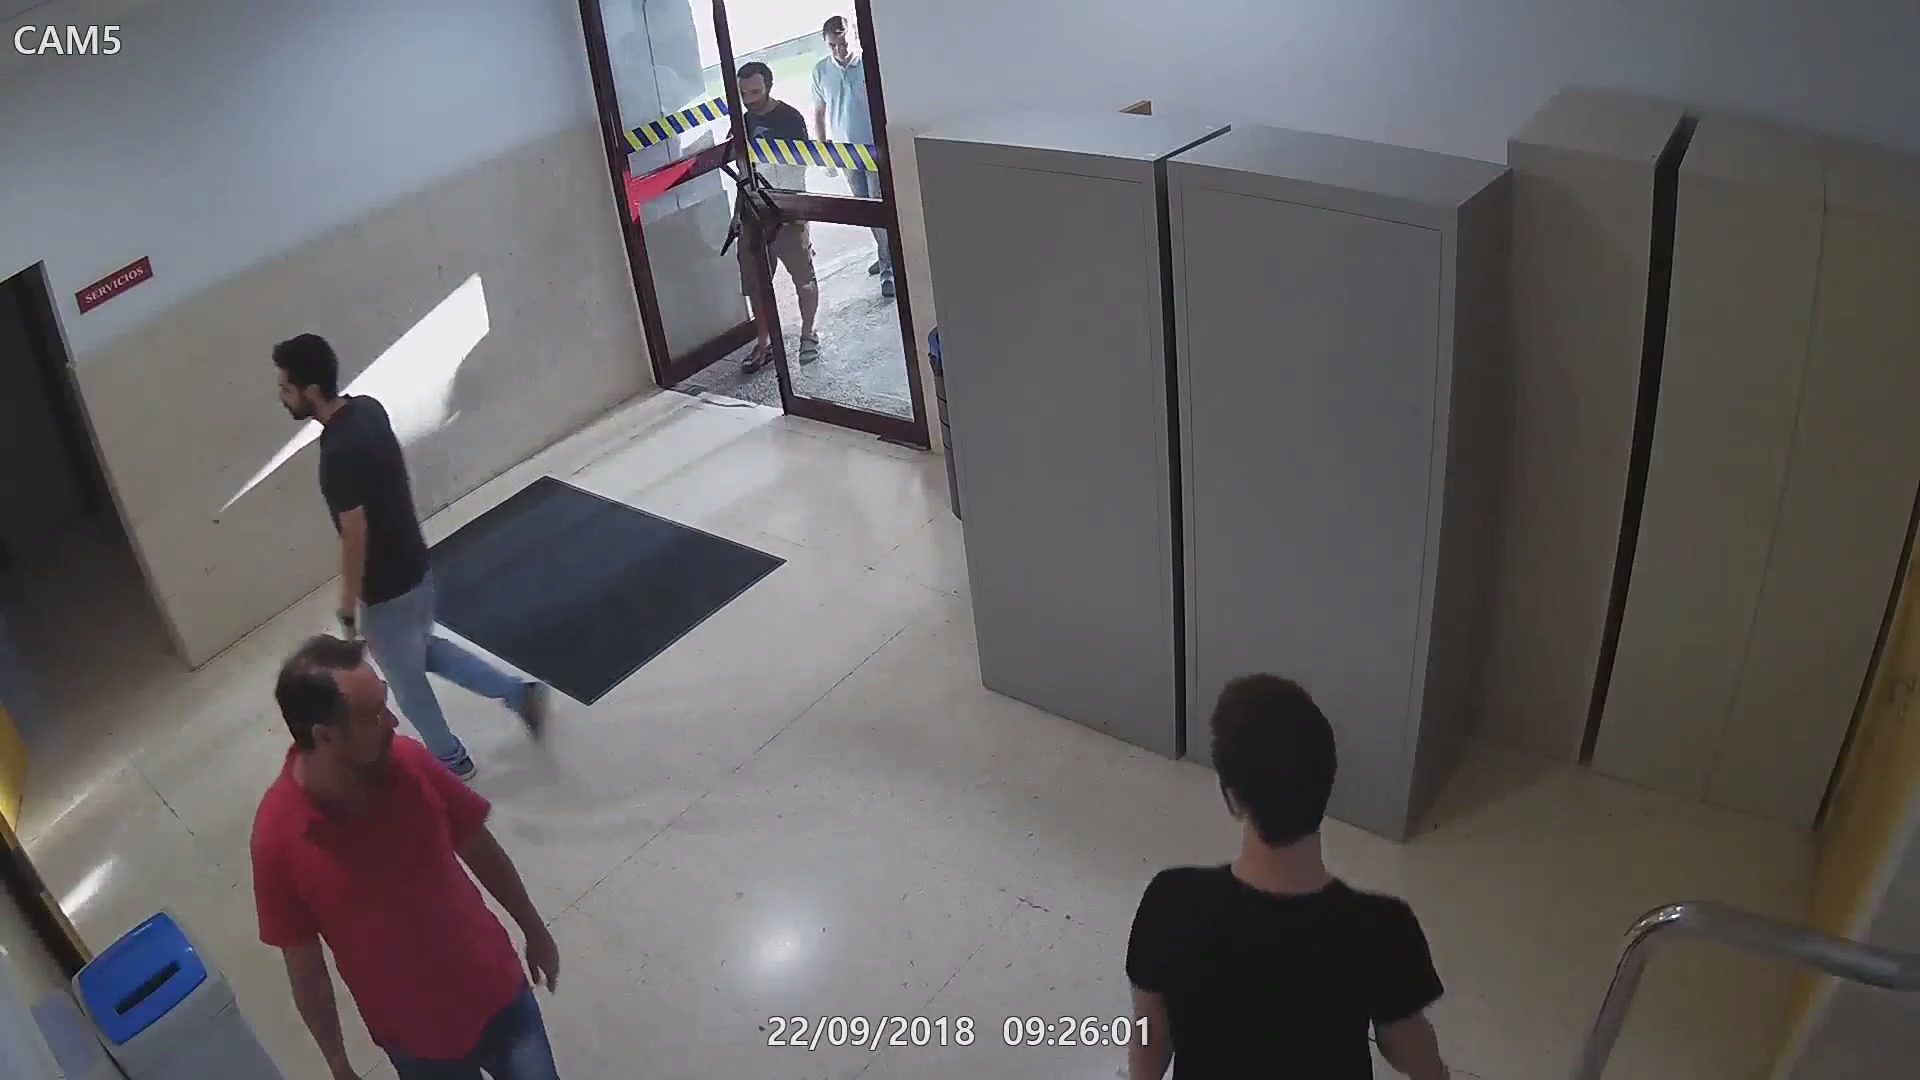Handgun: (712, 212, 741, 266)
